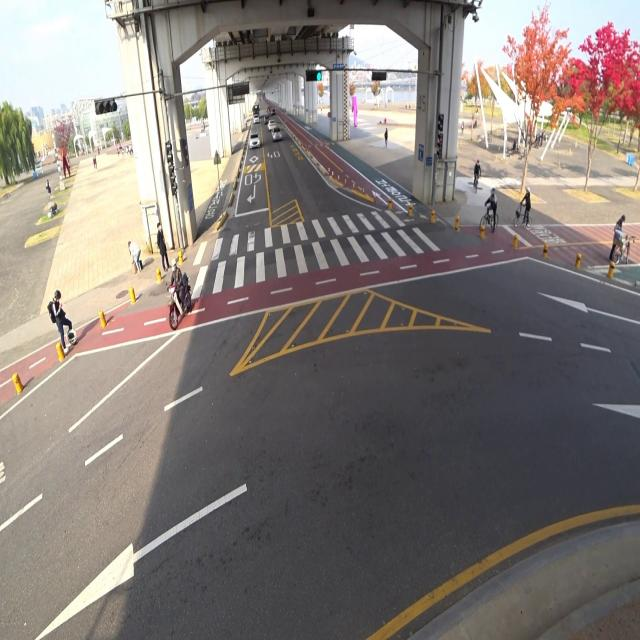Bus: (253, 102, 260, 121)
Car: (248, 128, 262, 152), (272, 126, 284, 148), (268, 120, 278, 130), (253, 114, 260, 127)
Motorcycle: (165, 259, 192, 329)
